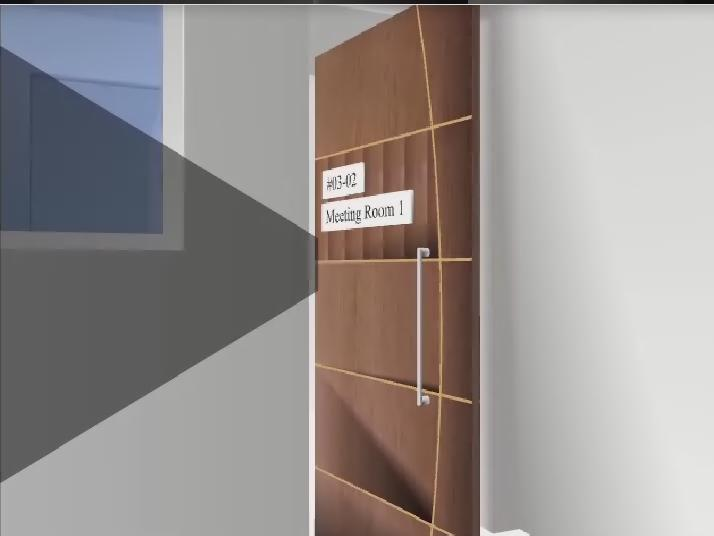door: (315, 5, 480, 536)
